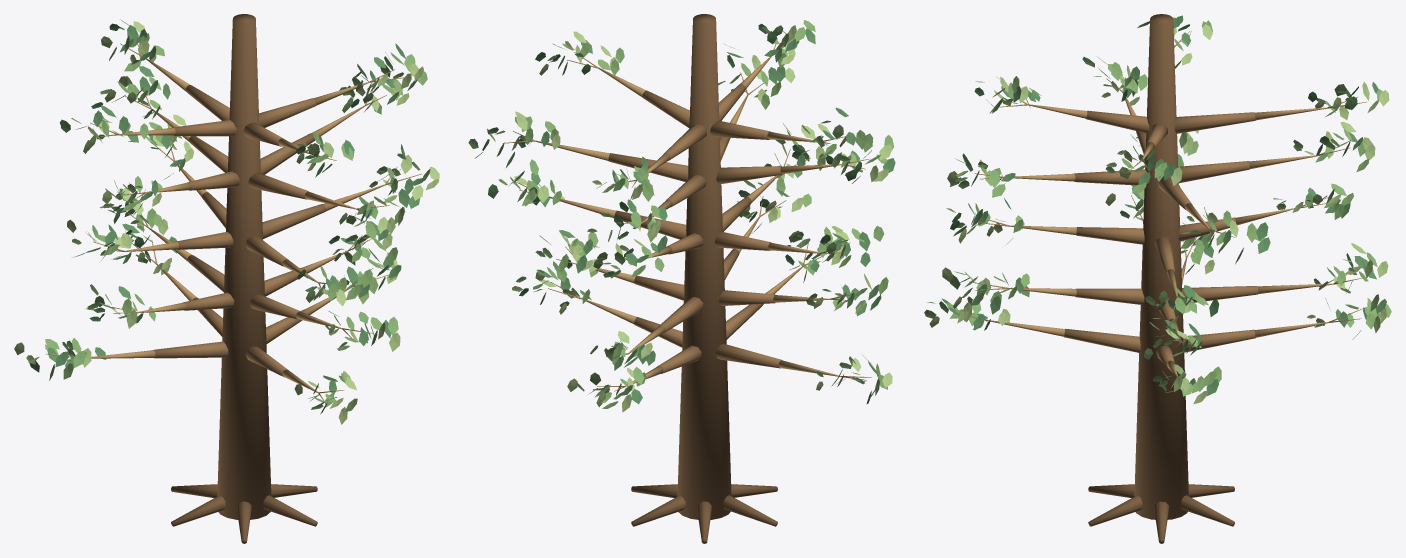
File: leafy_tree_a.glb
The picture shows the model from 3 angles, left to right: view 1: azimuth 30°, elevation 25°; view 2: azimuth 150°, elevation 25°; view 3: azimuth 270°, elevation 25°; orthographic projection.
Parts seen in each view (by area): view 1: leafy_tree_a_trunk, leafy_tree_a_branch_0_2_a, leafy_tree_a_branch_2_0_a, leafy_tree_a_branch_4_2_a, leafy_tree_a_branch_3_3_a, leafy_tree_a_branch_4_0_a, leafy_tree_a_branch_2_2_a, leafy_tree_a_branch_3_0_a, leafy_tree_a_branch_3_2_a, leafy_tree_a_branch_1_3_a, leafy_tree_a_branch_1_2_a, leafy_tree_a_branch_4_1_a (+7 smaller); view 2: leafy_tree_a_trunk, leafy_tree_a_branch_3_0_a, leafy_tree_a_branch_3_2_a, leafy_tree_a_branch_0_2_a, leafy_tree_a_branch_4_2_a, leafy_tree_a_branch_1_2_a, leafy_tree_a_branch_2_2_a, leafy_tree_a_branch_4_0_a, leafy_tree_a_branch_1_0_a, leafy_tree_a_branch_1_1_a, leafy_tree_a_branch_2_0_a, leafy_tree_a_branch_4_1_a (+6 smaller); view 3: leafy_tree_a_trunk, leafy_tree_a_branch_4_1_a, leafy_tree_a_branch_0_3_a, leafy_tree_a_branch_1_3_a, leafy_tree_a_branch_3_1_a, leafy_tree_a_branch_2_3_a, leafy_tree_a_branch_4_3_a, leafy_tree_a_branch_0_1_a, leafy_tree_a_branch_1_1_a, leafy_tree_a_branch_3_3_a, root_5, root_1 (+1 smaller).
Boxes of the visible parts, x1,y1,x2,y2 form: leafy_tree_a_trunk: [217, 14, 271, 519]; leafy_tree_a_branch_0_2_a: [153, 341, 228, 358]; leafy_tree_a_branch_2_0_a: [262, 204, 325, 238]; leafy_tree_a_branch_4_2_a: [173, 120, 236, 136]; leafy_tree_a_branch_3_3_a: [248, 172, 308, 199]; leafy_tree_a_branch_4_0_a: [259, 98, 316, 127]; leafy_tree_a_branch_2_2_a: [176, 231, 233, 249]; leafy_tree_a_branch_3_0_a: [260, 133, 314, 174]; leafy_tree_a_branch_3_2_a: [187, 171, 239, 190]; leafy_tree_a_branch_1_3_a: [249, 294, 300, 319]; leafy_tree_a_branch_1_2_a: [183, 292, 234, 310]; leafy_tree_a_branch_4_1_a: [185, 85, 229, 120]; leafy_tree_a_trunk: [677, 14, 731, 519]; leafy_tree_a_branch_3_0_a: [608, 153, 688, 181]; leafy_tree_a_branch_3_2_a: [716, 166, 781, 184]; leafy_tree_a_branch_0_2_a: [715, 344, 781, 368]; leafy_tree_a_branch_4_2_a: [710, 120, 770, 139]; leafy_tree_a_branch_1_2_a: [718, 290, 775, 305]; leafy_tree_a_branch_2_2_a: [714, 232, 770, 250]; leafy_tree_a_branch_4_0_a: [642, 90, 689, 127]; leafy_tree_a_branch_1_0_a: [634, 275, 684, 300]; leafy_tree_a_branch_1_1_a: [659, 297, 703, 333]; leafy_tree_a_branch_2_0_a: [614, 210, 686, 239]; leafy_tree_a_branch_4_1_a: [664, 124, 706, 160]; leafy_tree_a_trunk: [1134, 14, 1188, 519]; leafy_tree_a_branch_4_1_a: [1174, 112, 1255, 133]; leafy_tree_a_branch_0_3_a: [1064, 328, 1140, 352]; leafy_tree_a_branch_1_3_a: [1075, 288, 1144, 304]; leafy_tree_a_branch_3_1_a: [1178, 161, 1249, 183]; leafy_tree_a_branch_2_3_a: [1076, 227, 1144, 244]; leafy_tree_a_branch_4_3_a: [1086, 110, 1149, 133]; leafy_tree_a_branch_0_1_a: [1182, 329, 1255, 352]; leafy_tree_a_branch_1_1_a: [1181, 286, 1258, 302]; leafy_tree_a_branch_3_3_a: [1074, 169, 1149, 185]; root_5: [1088, 495, 1142, 526]; root_1: [1180, 495, 1234, 526].
Bounding box in the file's own units: 4.2 × 4.88 × 4.22.
